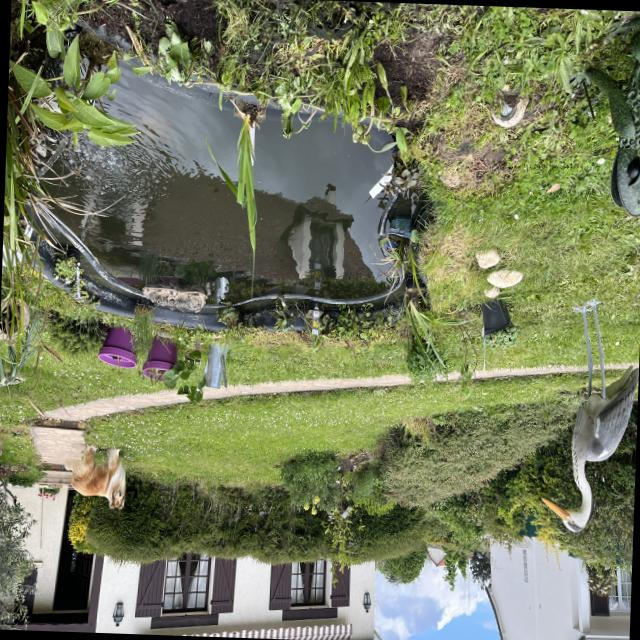Dog: (62, 432, 137, 519)
Heron: (535, 285, 640, 545)
